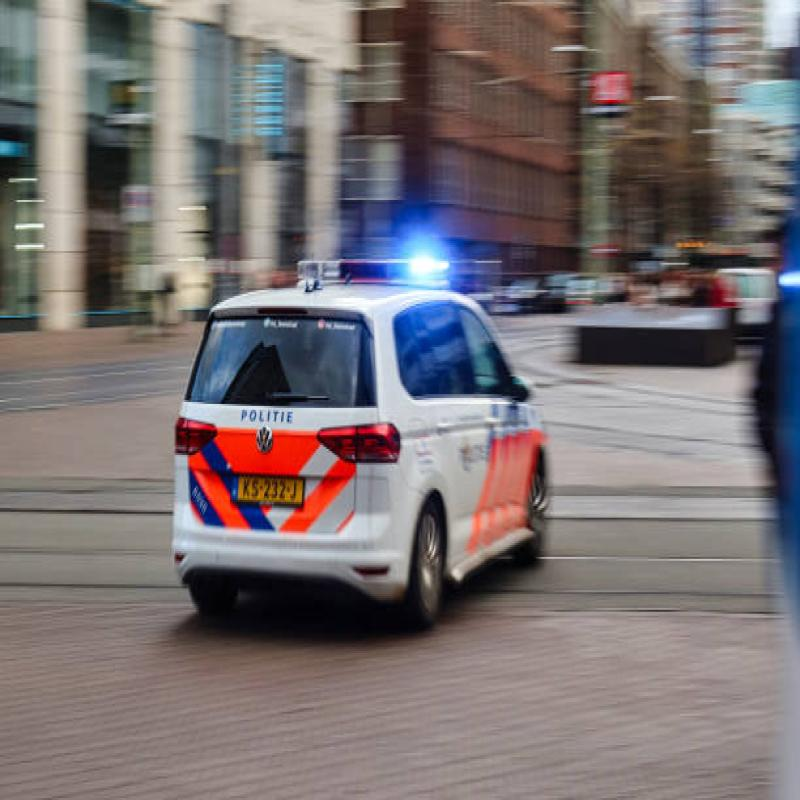AmbulanceSiren: (274, 232, 464, 292)
